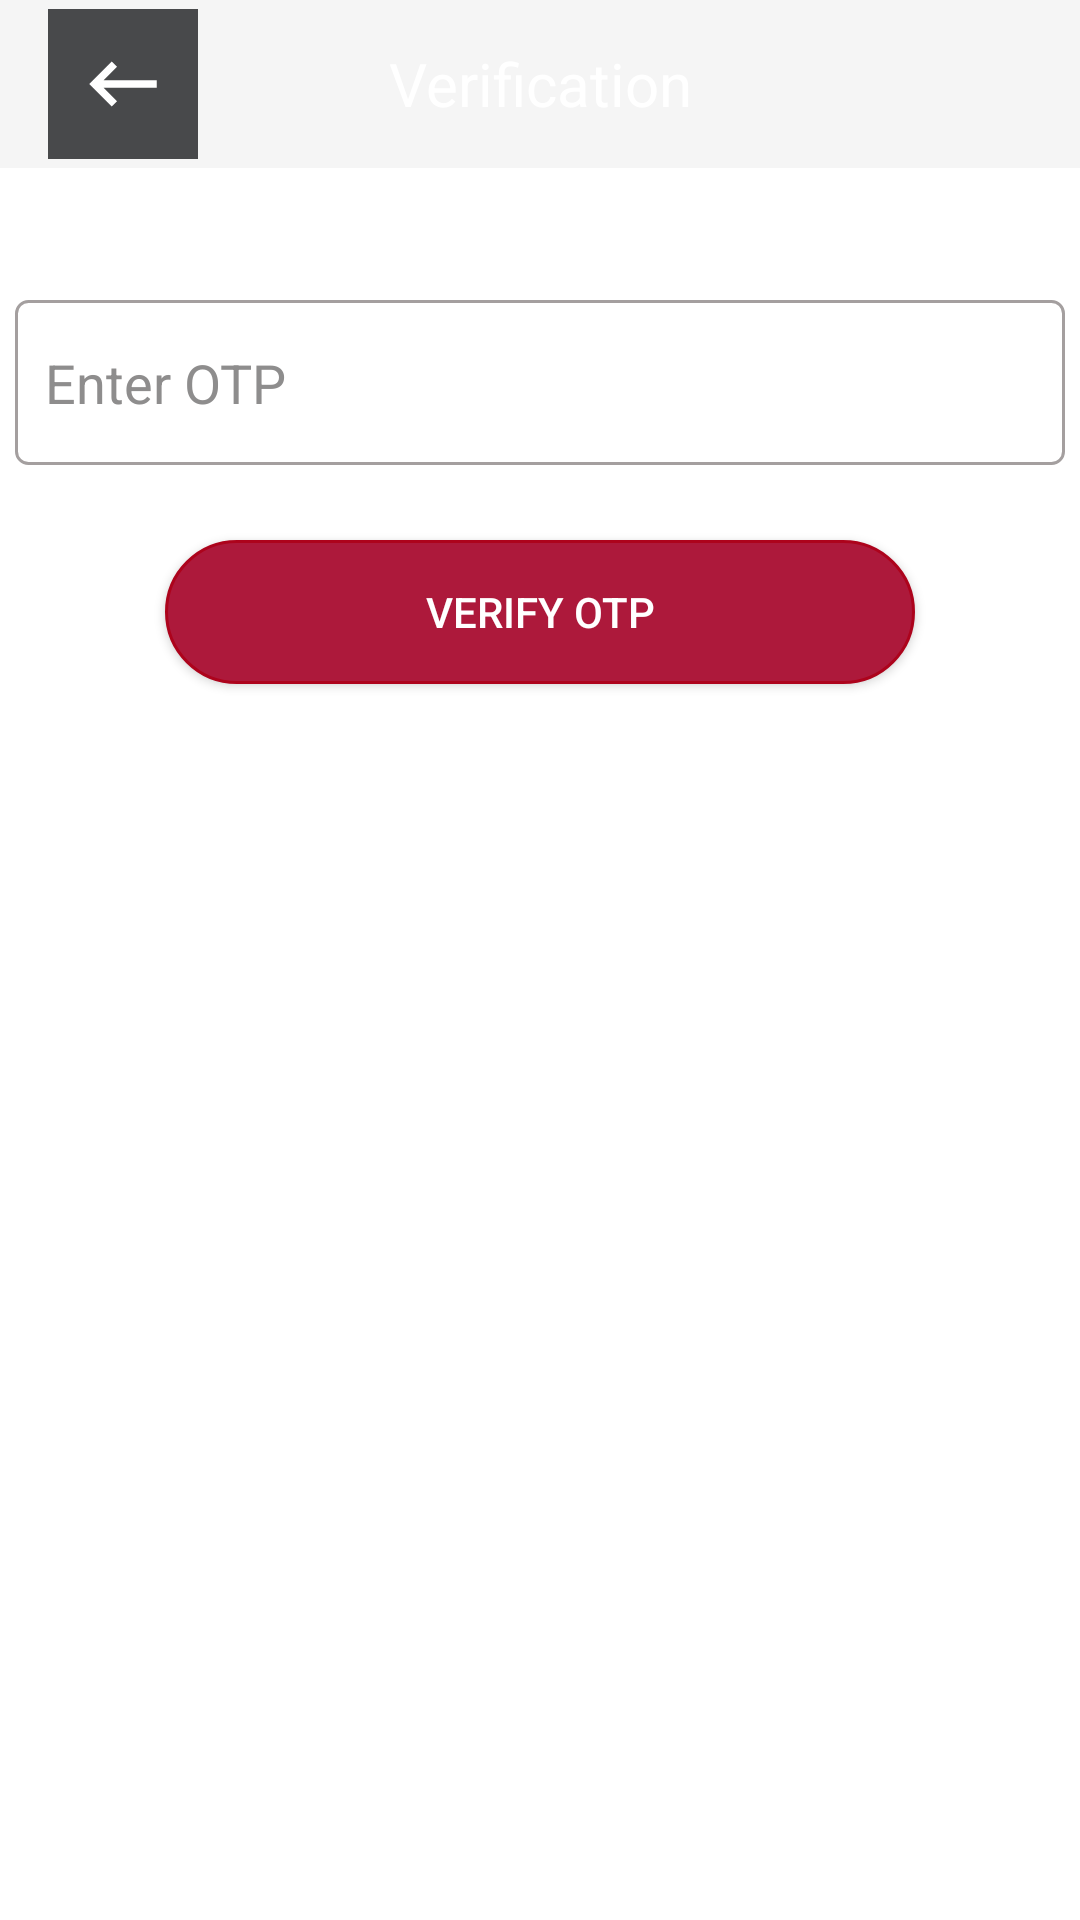

Icons on this 1080x1920 Android screen, each with its box as (x1, y1, x2, y2):
back: (48, 9, 198, 159)
